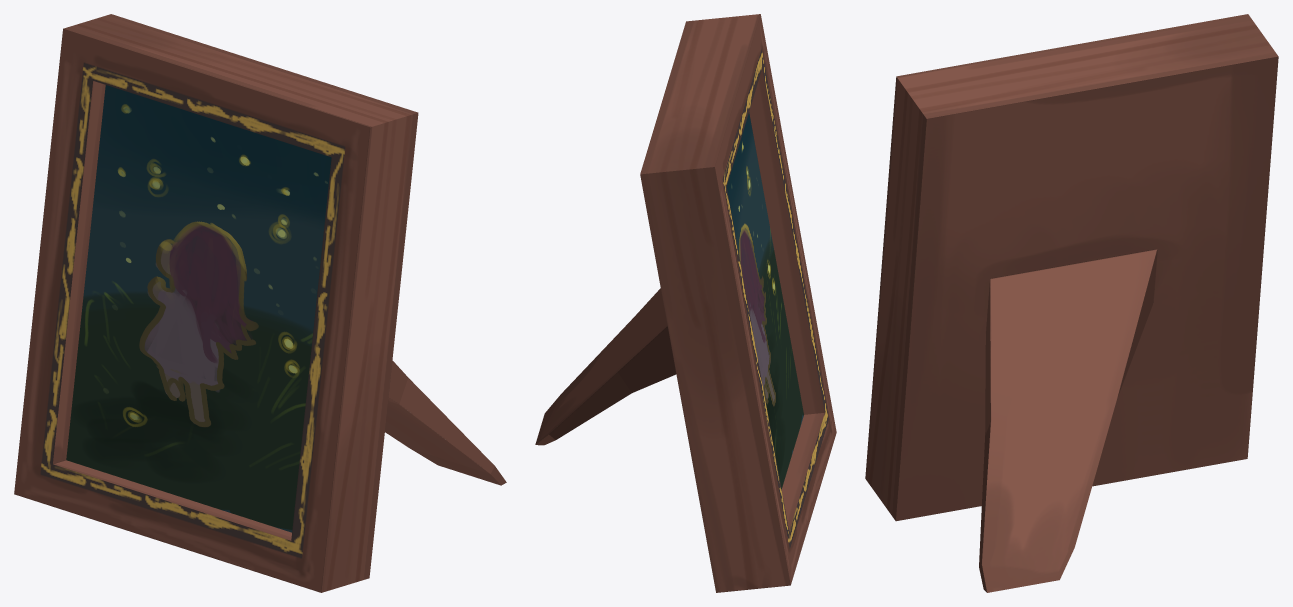
Rendered from PhotoFrame_1.fbx.
3 views of the same model, side by side, from view 1: azimuth 30°, elevation 25°; view 2: azimuth 150°, elevation 25°; view 3: azimuth 270°, elevation 25° (orthographic). The views are drawn at different scales.
Parts seen in each view (by area): view 1: Photo_frame_1; view 2: Photo_frame_1; view 3: Photo_frame_1.
Boxes of the visible parts, x1,y1,x2,y2 form: Photo_frame_1: (14, 14, 506, 592); Photo_frame_1: (535, 14, 836, 592); Photo_frame_1: (865, 14, 1278, 592).
Size of the model in its own units: 22.56 by 25.79 by 21.69.
1 material, 1 textured.
